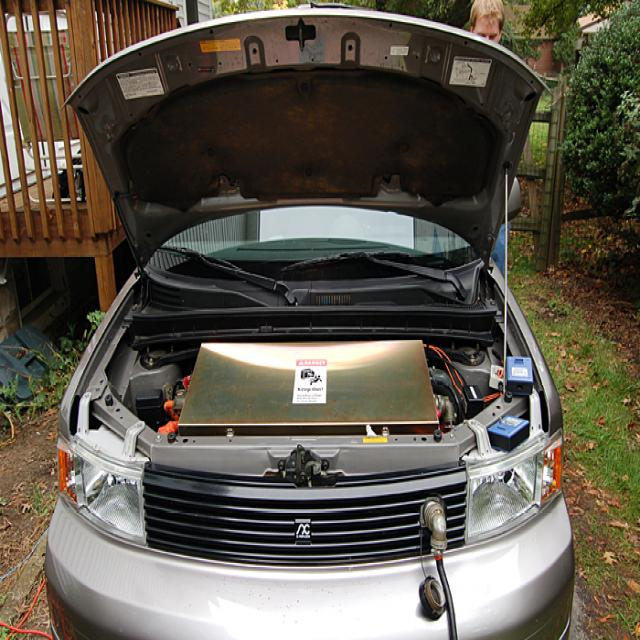Car: (46, 0, 571, 640)
